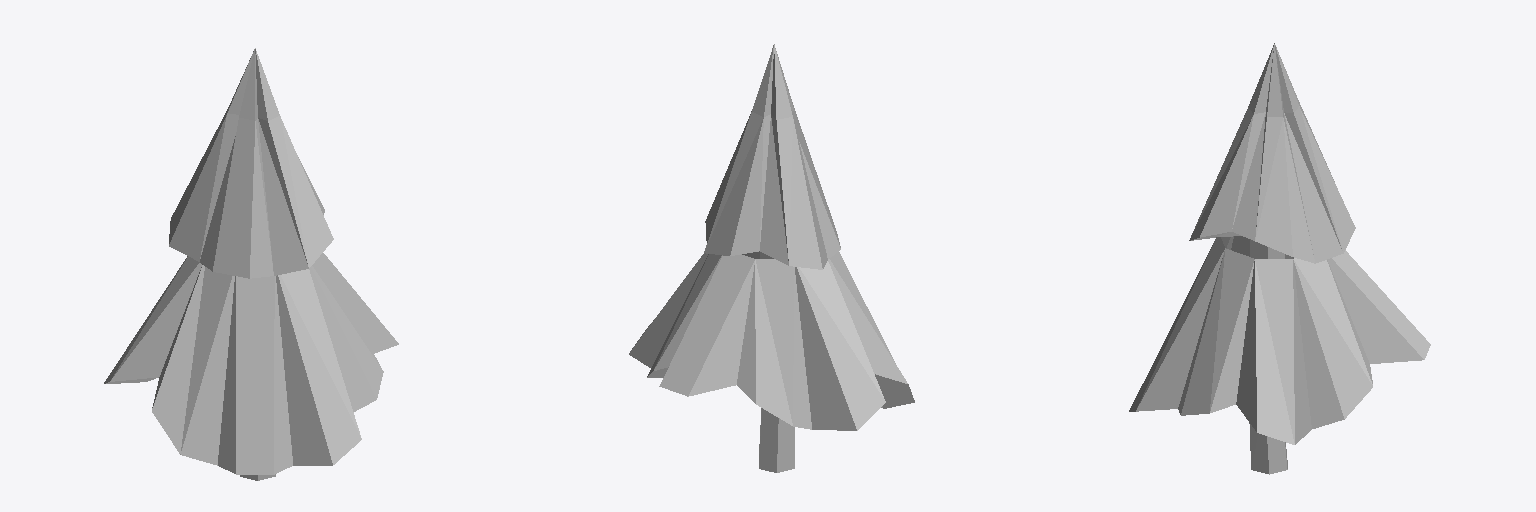
Rendered from tree_2.obj.
The picture shows the model from 3 angles: view 1: azimuth 30°, elevation 25°; view 2: azimuth 150°, elevation 25°; view 3: azimuth 270°, elevation 25°; orthographic projection.
Parts seen in each view (by area): view 1: Tree_Type2_01_mesh; view 2: Tree_Type2_01_mesh; view 3: Tree_Type2_01_mesh.
Boxes of the visible parts, x1=… form: Tree_Type2_01_mesh: x1=104, y1=48, x2=398, y2=480; Tree_Type2_01_mesh: x1=629, y1=44, x2=914, y2=472; Tree_Type2_01_mesh: x1=1129, y1=43, x2=1430, y2=474.
Bounding box in the file's own units: 1.29 × 1.97 × 1.28.